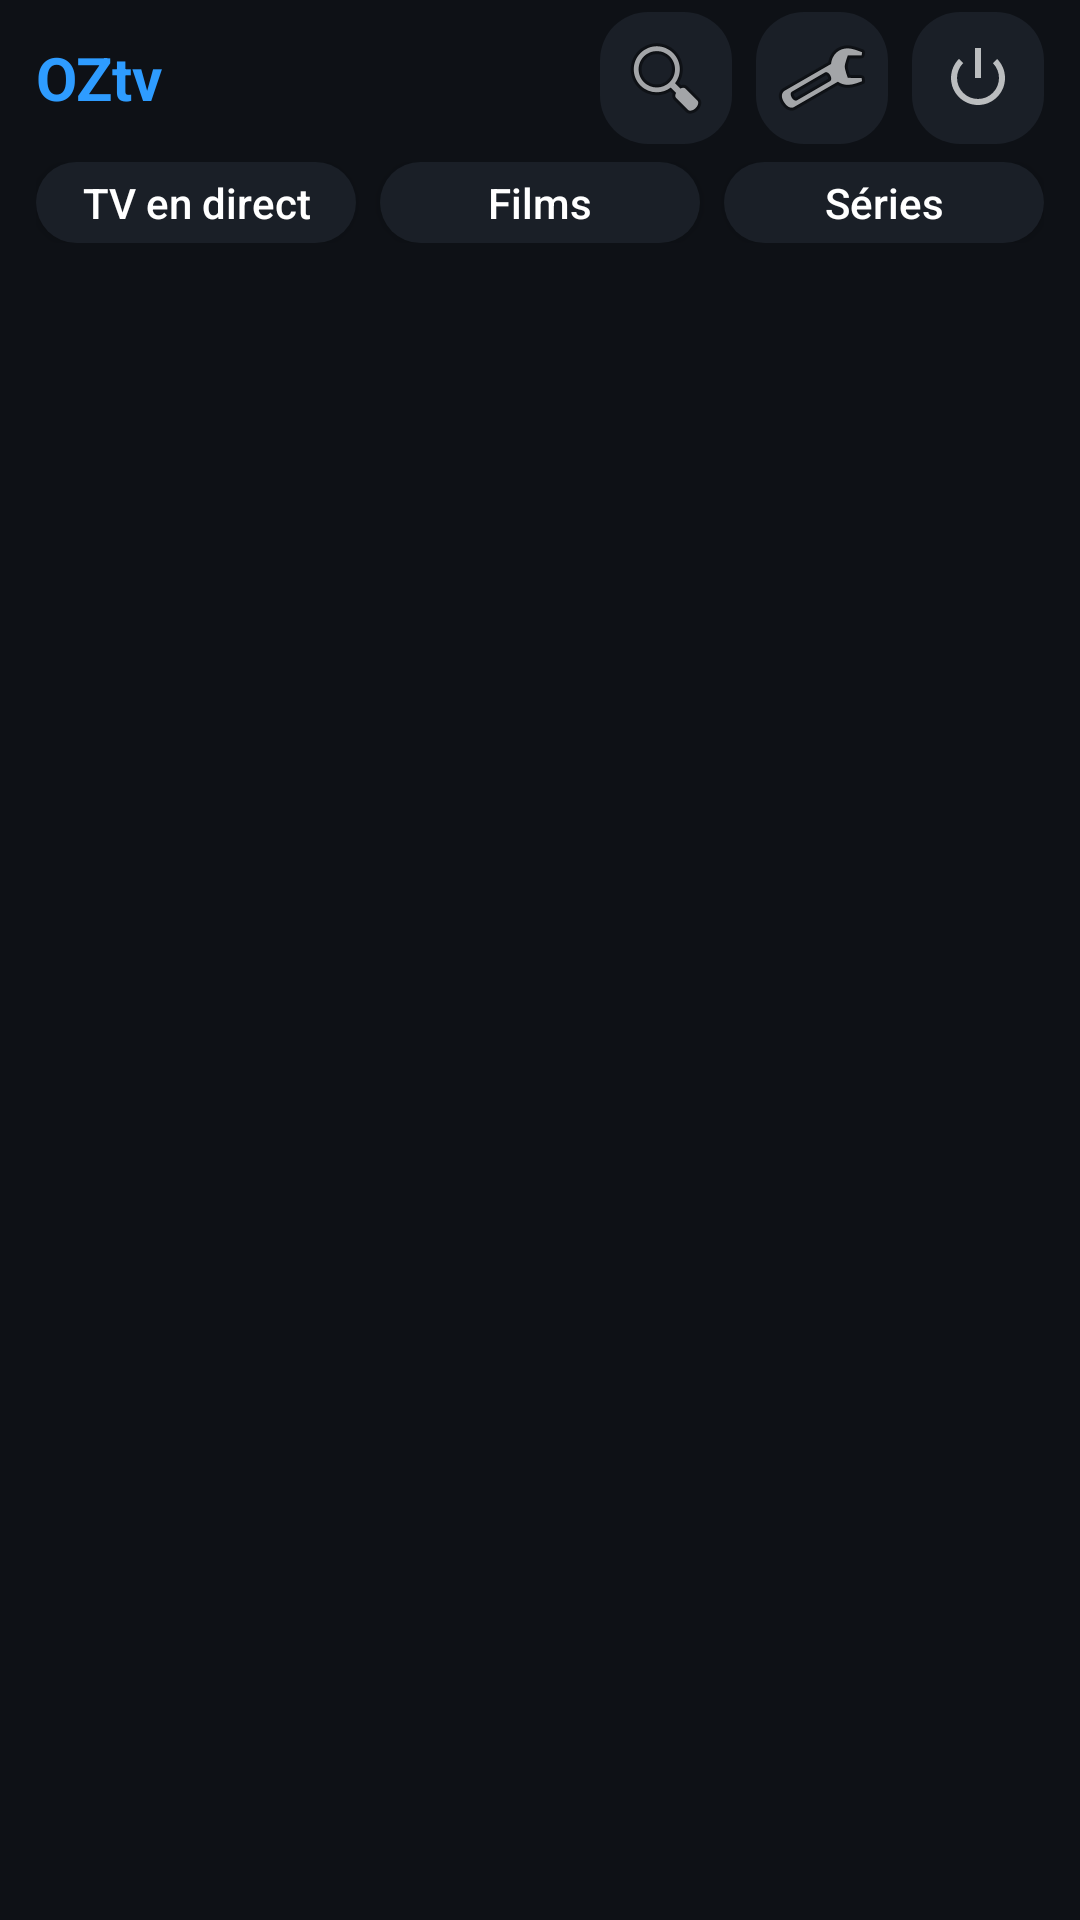

Icons on this 1080px×1920px Android screen, each with the point to tap as [x,y]:
Déconnexion: [978,78]
Rechercher: [666,78]
